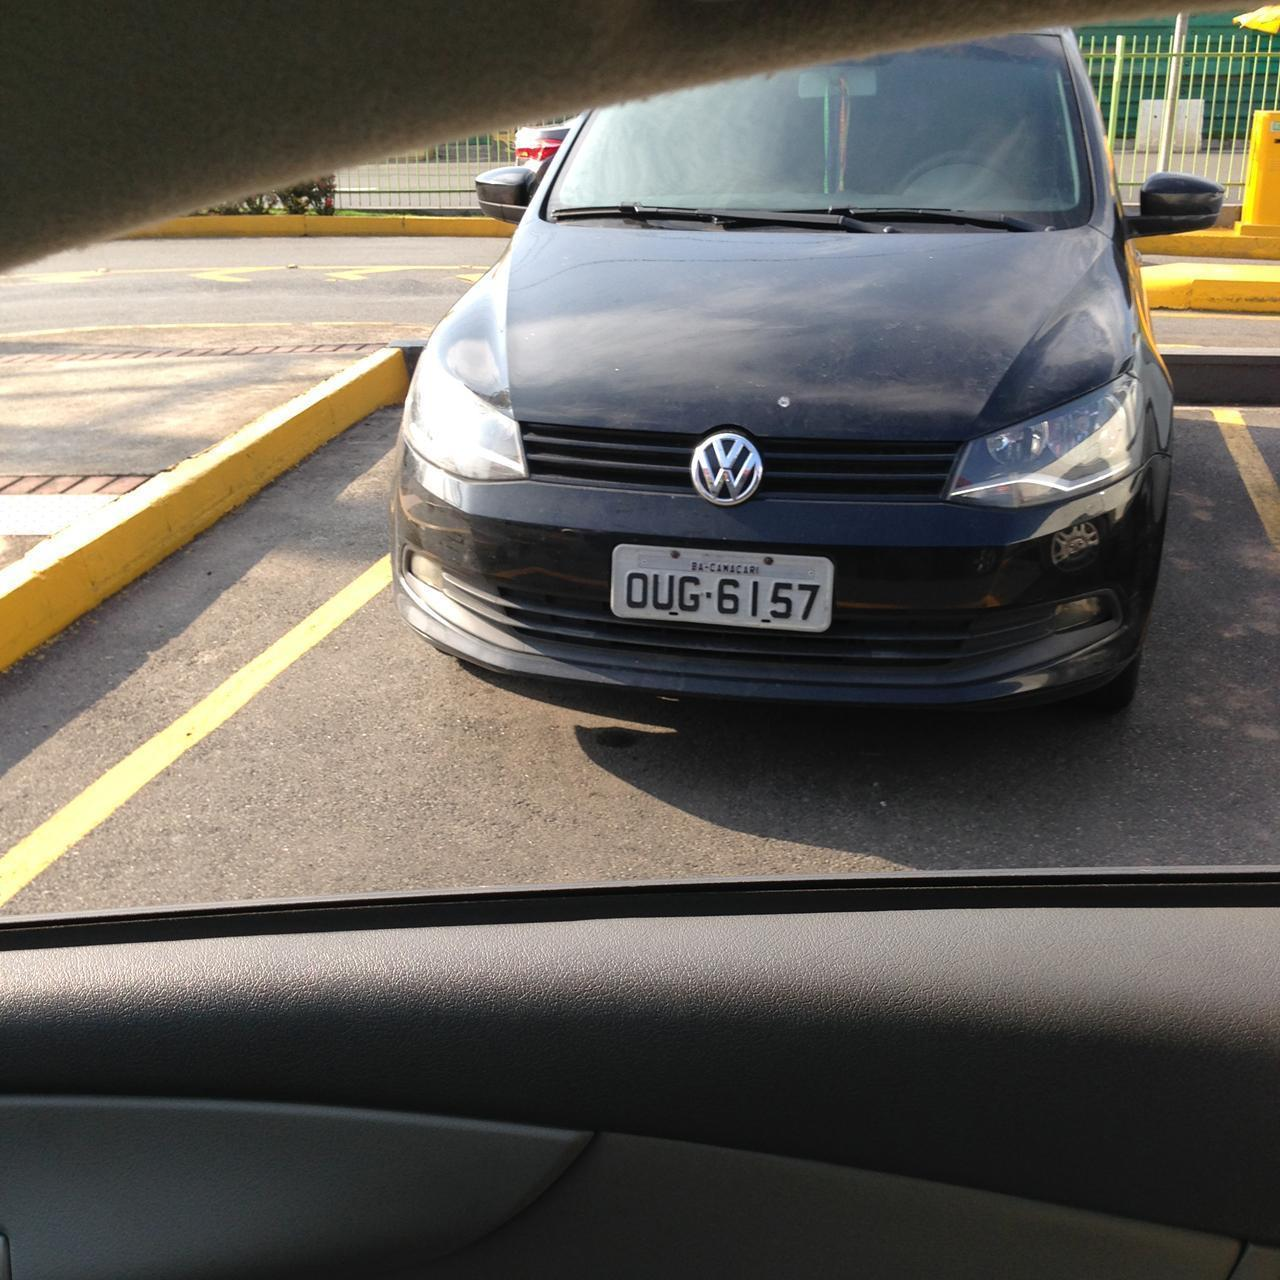placa de veiculo: (598, 530, 846, 648)
